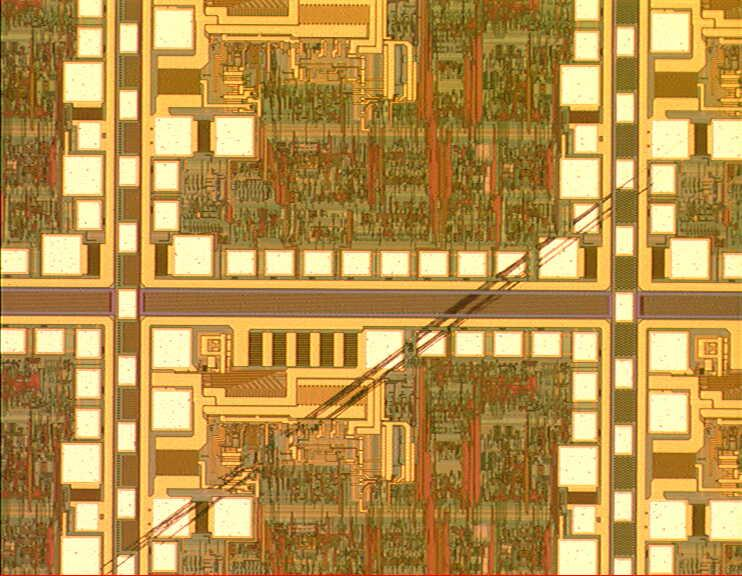SCRATCH: (103, 144, 688, 574)
